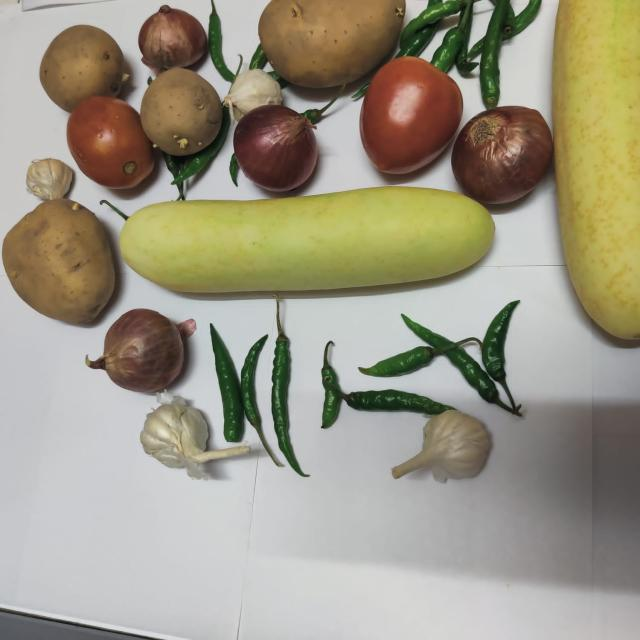Organik: (119, 185, 505, 303), (343, 295, 531, 418), (205, 316, 348, 449), (0, 196, 120, 327), (352, 57, 468, 186), (453, 102, 563, 212), (134, 395, 251, 491), (380, 408, 501, 499), (229, 101, 336, 202), (131, 65, 235, 161), (89, 307, 191, 404), (38, 17, 134, 114), (413, 0, 540, 68)
